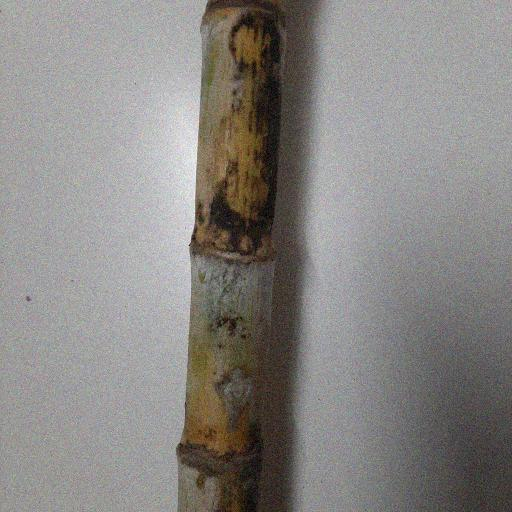Bud: (239, 235, 254, 256)
